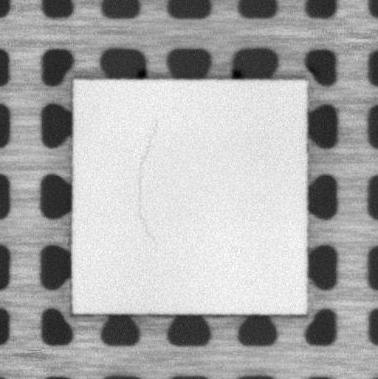DIE_CRACK: (133, 120, 160, 244)
